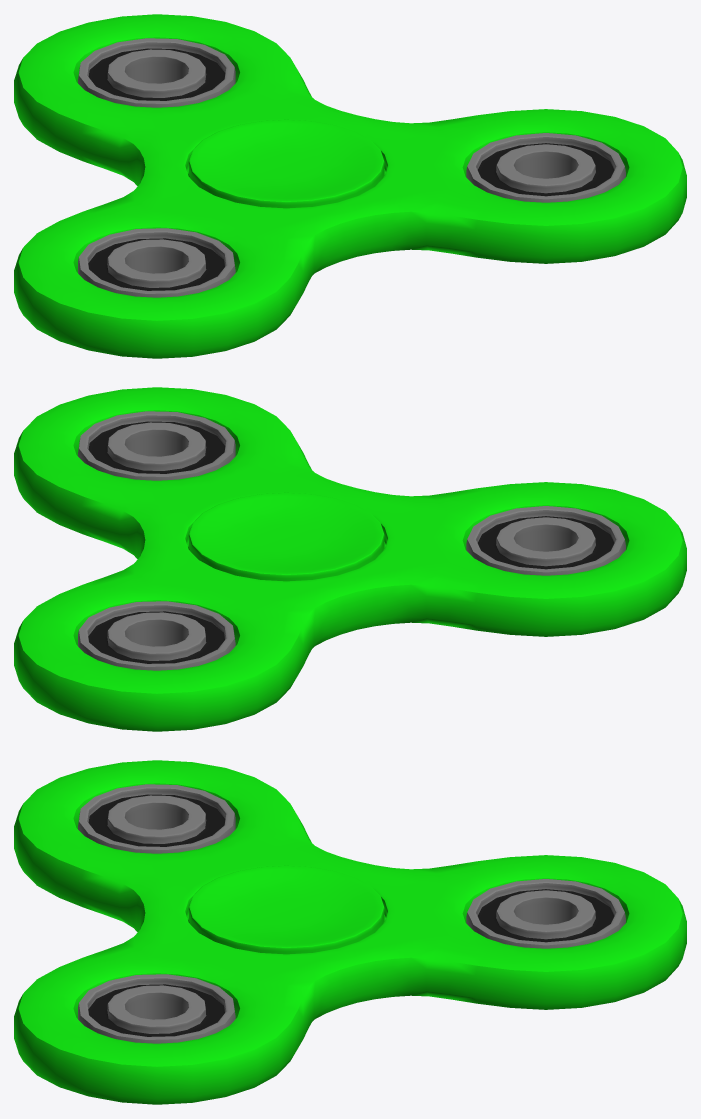
3 renders of one model, top to bottom at view 1: azimuth 30°, elevation 25°; view 2: azimuth 150°, elevation 25°; view 3: azimuth 270°, elevation 25°, orthographic.
Parts seen in each view (by area): view 1: Disc, Cylinder_2, Cylinder_3, Cylinder_1; view 2: Disc, Cylinder_1, Cylinder_2, Cylinder_3; view 3: Disc, Cylinder_3, Cylinder_1, Cylinder_2.
Part boxes in pixels (x1,y1,x2,y2): Disc: [14, 14, 686, 358]; Cylinder_2: [466, 133, 625, 202]; Cylinder_3: [78, 38, 235, 107]; Cylinder_1: [78, 228, 235, 297]; Disc: [14, 387, 686, 731]; Cylinder_1: [466, 506, 625, 575]; Cylinder_2: [78, 411, 235, 480]; Cylinder_3: [78, 601, 235, 670]; Disc: [14, 760, 686, 1104]; Cylinder_3: [466, 879, 625, 948]; Cylinder_1: [78, 784, 235, 853]; Cylinder_2: [78, 974, 235, 1043].
Size of the model in its own units: 399 by 31.2 by 366.
